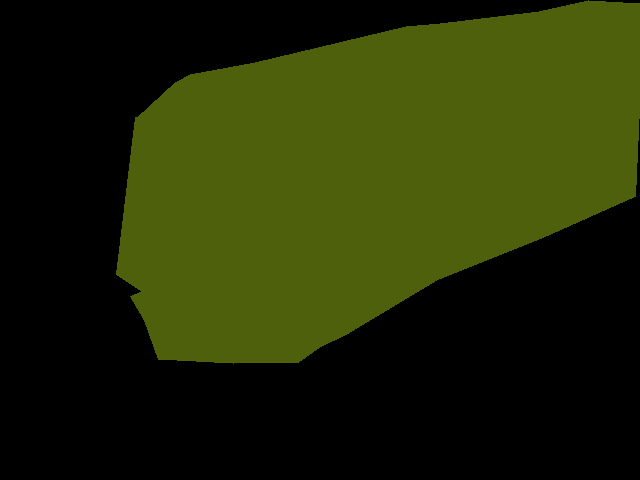Train: (116, 0, 640, 363)
